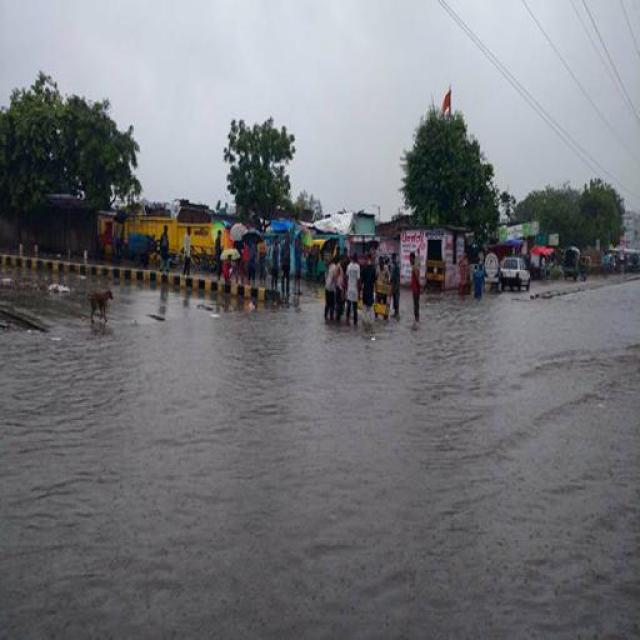puddle: (12, 355, 634, 636), (191, 314, 456, 393), (431, 296, 632, 388)
